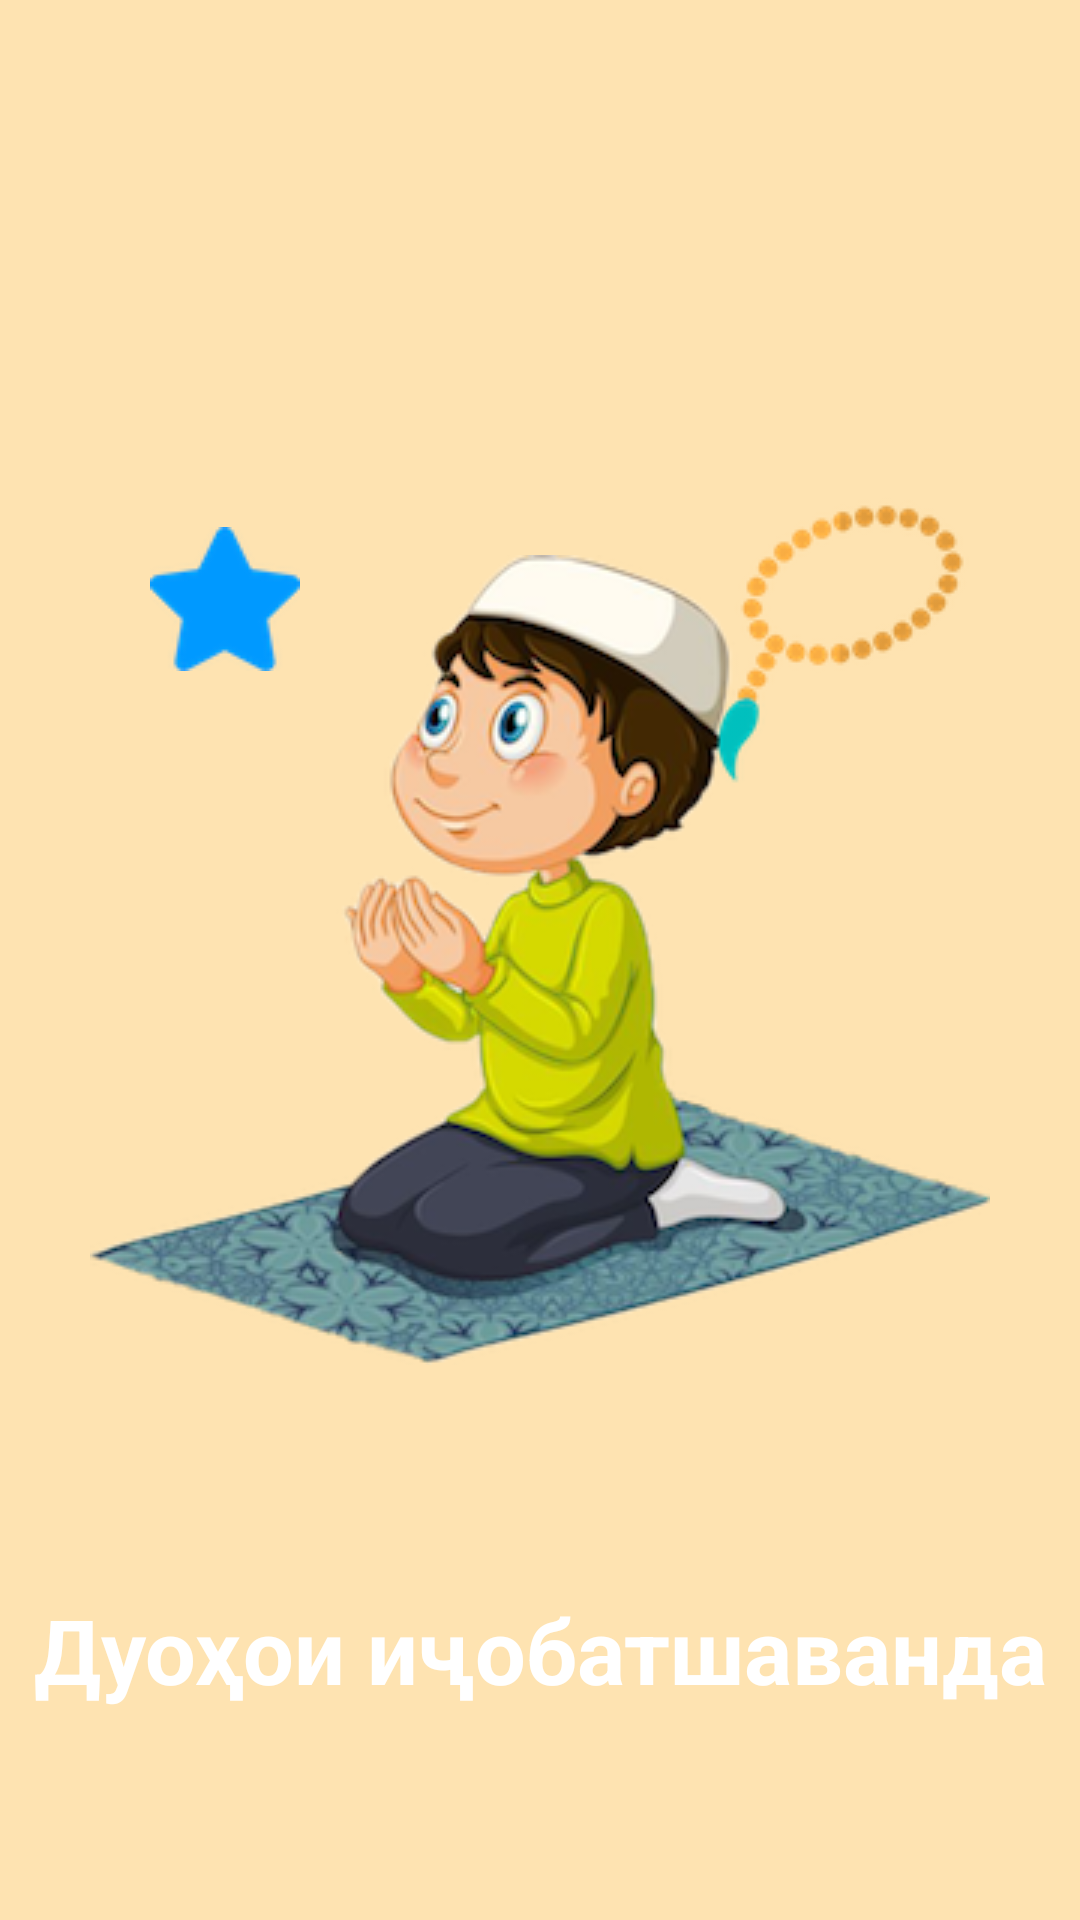

Screen size 1080*1920. Icon name, then its box in pixels as box(x1, y1, x2, y2):
intro star: box(150, 527, 300, 671)
intro tasbih: box(690, 505, 963, 794)
